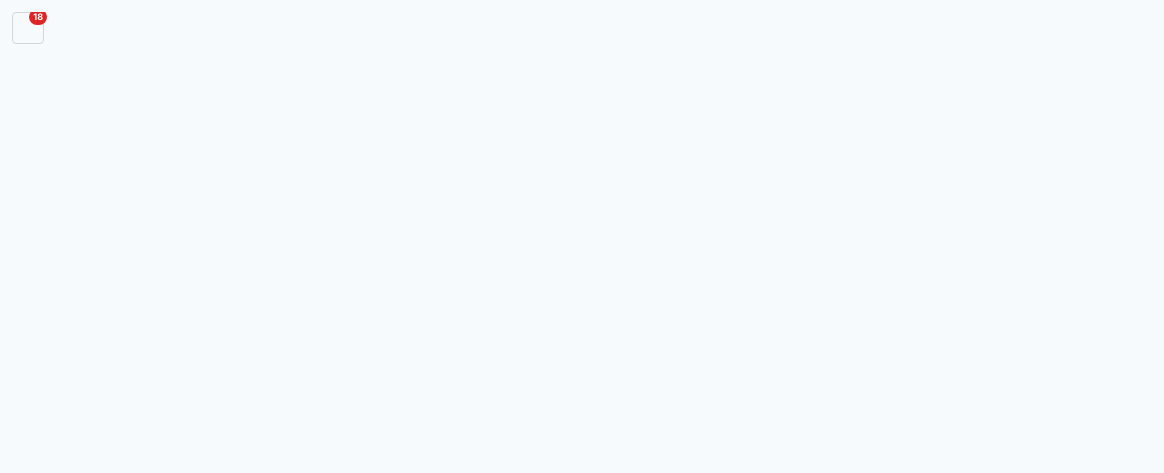
Scenario: reste ambre tant qu'il reste des jours
What coordinates should you click on to do the following:
click the button with test id "notifications-toggle"
I would click on:
 (28, 28)
Its box is [12,12,44,44].
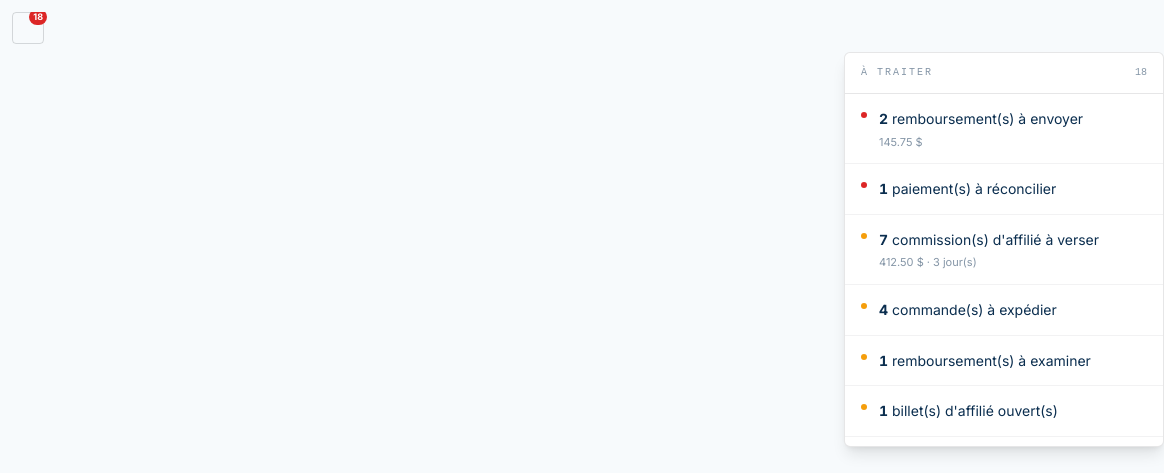
Expected: the link with test id "notification-affiliate-payout" shows "3 jour(s)", [861,231,1099,269]
